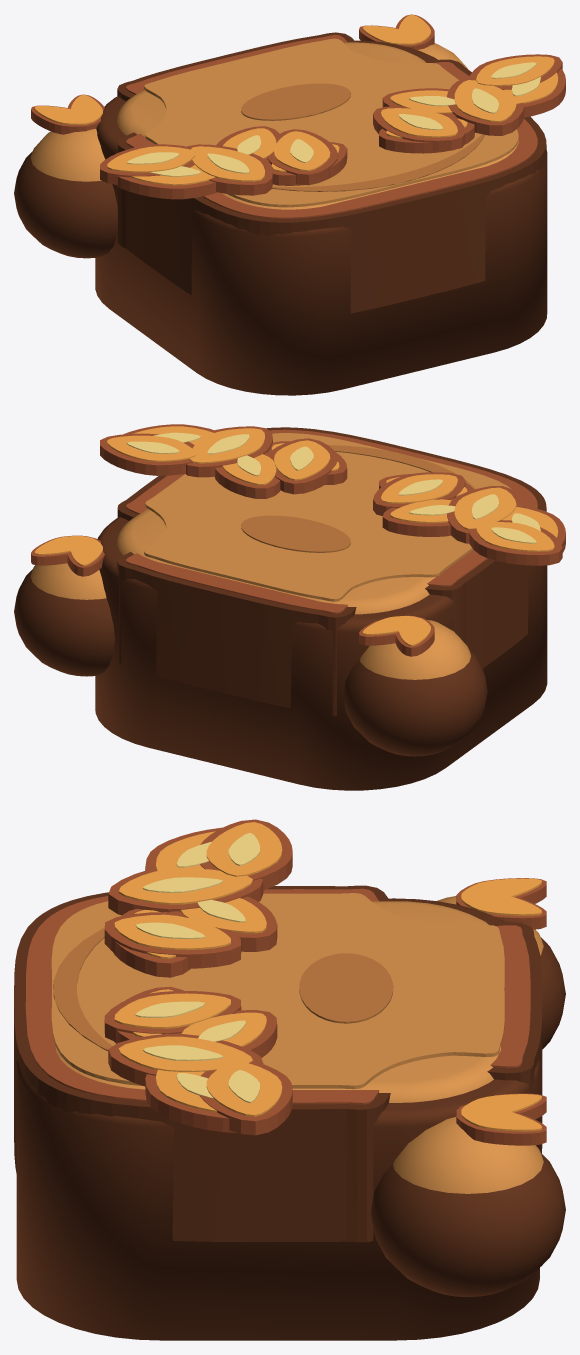
The model's file is body_pao.fbx.
The picture shows the model from 3 angles, top to bottom: view 1: azimuth 30°, elevation 25°; view 2: azimuth 150°, elevation 25°; view 3: azimuth 270°, elevation 25°; orthographic projection. The views are drawn at different scales.
Parts seen in each view (by area): view 1: body_pao_corpo, body_pao_mao_esq, body_pao_mao; view 2: body_pao_corpo, body_pao_mao_esq, body_pao_mao; view 3: body_pao_corpo, body_pao_mao, body_pao_mao_esq.
Boxes of the visible parts, x1,y1,x2,y2 form: body_pao_corpo: (95,32,565,395); body_pao_mao_esq: (14,94,117,258); body_pao_mao: (359,14,467,68); body_pao_corpo: (95,424,565,790); body_pao_mao_esq: (343,615,487,756); body_pao_mao: (14,535,114,676); body_pao_corpo: (14,819,542,1340); body_pao_mao: (371,1093,565,1297); body_pao_mao_esq: (437,878,565,1049).
Size of the model in its own units: 5.46 by 2.22 by 4.22.
1 material, 1 textured.
